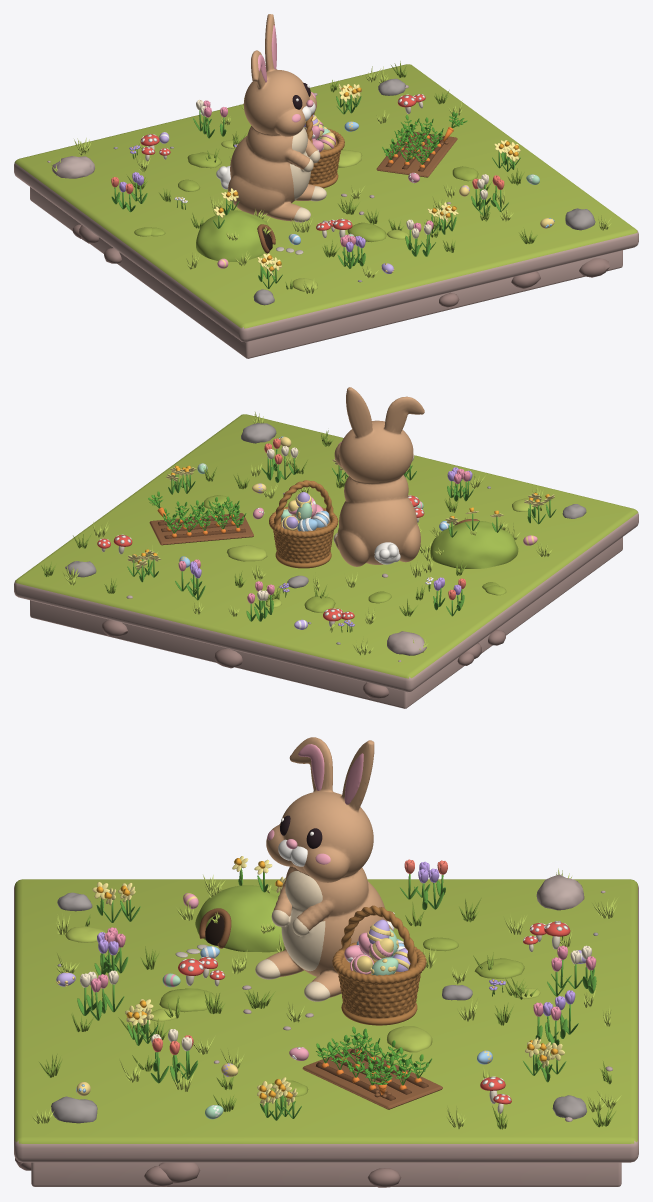
File: bunny.glb
The picture shows the model from 3 angles, top to bottom: view 1: azimuth 30°, elevation 25°; view 2: azimuth 150°, elevation 25°; view 3: azimuth 270°, elevation 25°; orthographic projection. The views are drawn at different scales.
Parts seen in each view (by area): view 1: Base, Blossoms, Grass, Bulbs, Burrow, CarrotPatch, Rocks, Trunk, Toadstools, Eggs; view 2: Base, Blossoms, Grass, Bulbs, Burrow, CarrotPatch, Trunk, Rocks, Toadstools, Eggs; view 3: Base, Blossoms, Bulbs, Grass, CarrotPatch, Trunk, Burrow, Rocks, Toadstools, Eggs.
Part boxes in pixels (<box>): Base: <box>14,64,638,358</box>; Blossoms: <box>216,14,335,222</box>; Grass: <box>51,61,611,293</box>; Bulbs: <box>111,84,520,288</box>; Burrow: <box>196,209,303,262</box>; CarrotPatch: <box>376,111,467,177</box>; Rocks: <box>47,78,595,305</box>; Trunk: <box>305,113,344,188</box>; Toadstools: <box>140,94,425,238</box>; Eggs: <box>159,121,554,273</box>; Base: <box>14,414,638,708</box>; Blossoms: <box>281,387,424,566</box>; Grass: <box>41,412,551,655</box>; Bulbs: <box>127,438,556,621</box>; Burrow: <box>430,516,518,568</box>; CarrotPatch: <box>148,491,253,545</box>; Trunk: <box>269,480,338,568</box>; Rocks: <box>65,423,586,661</box>; Toadstools: <box>97,495,424,627</box>; Eggs: <box>179,436,537,629</box>; Base: <box>14,879,638,1187</box>; Blossoms: <box>255,737,410,1001</box>; Bulbs: <box>77,856,596,1120</box>; Grass: <box>31,868,621,1129</box>; CarrotPatch: <box>302,1026,442,1109</box>; Trunk: <box>332,905,426,1025</box>; Burrow: <box>175,881,284,957</box>; Rocks: <box>51,874,612,1123</box>; Toadstools: <box>178,921,570,1113</box>; Eggs: <box>56,893,585,1119</box>.
Bounding box in the file's own units: 72 × 37.63 × 72.
